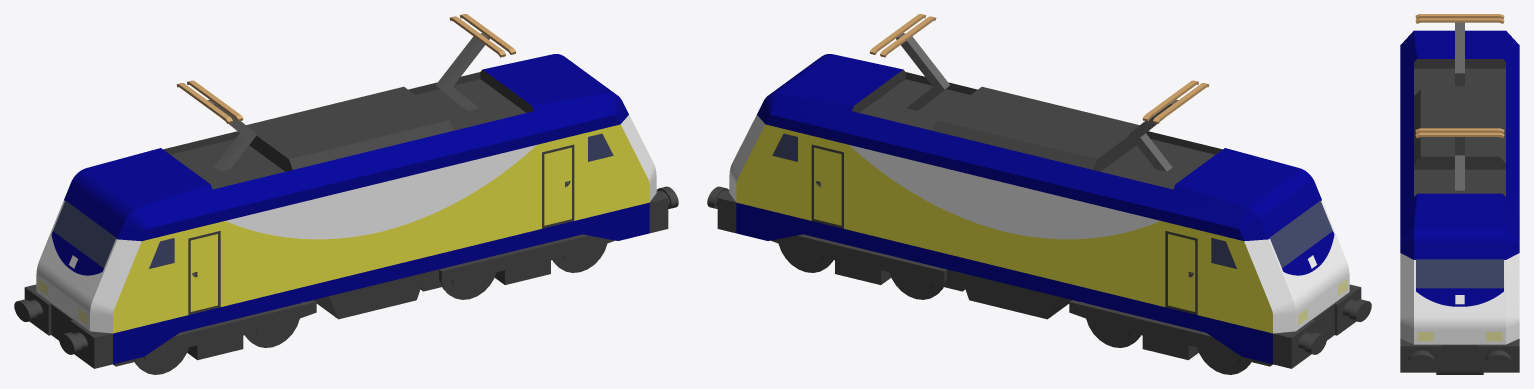
File: Train.obj
3 views of the same model, side by side, from view 1: azimuth 30°, elevation 25°; view 2: azimuth 150°, elevation 25°; view 3: azimuth 270°, elevation 25° (orthographic). The views are drawn at different scales.
Visible parts, largest first — view 1: Component_2_ID460, Component_2_ID538, Component_2_ID390, Component_2_ID302, Component_2_ID478, Component_2_ID326, Component_2_ID520, Component_2_ID372, Component_2_ID366, Component_2_ID514, Component_2_ID466, Component_1_ID146 (+21 smaller); view 2: Component_2_ID302, Component_2_ID390, Component_2_ID538, Component_2_ID460, Component_2_ID326, Component_2_ID478, Component_2_ID372, Component_2_ID520, Component_2_ID514, Component_2_ID366, Component_2_ID310, Component_1_ID22 (+21 smaller); view 3: Component_2_ID302, Component_2_ID460, Component_2_ID326, Component_2_ID478, Component_2_ID310, Component_2_ID466, Component_2_ID274, Component_2_ID436, Component_2_ID346, Component_2_ID496, Component_2_ID384, Component_2_ID532 (+10 smaller).
Boxes of the visible parts, left/top/right/bottom form: Component_2_ID460: left=91, top=54, right=589, bottom=241; Component_2_ID538: left=113, top=221, right=381, bottom=333; Component_2_ID390: left=381, top=124, right=649, bottom=267; Component_2_ID302: left=64, top=73, right=628, bottom=218; Component_2_ID478: left=197, top=69, right=507, bottom=189; Component_2_ID326: left=163, top=88, right=533, bottom=174; Component_2_ID520: left=226, top=183, right=381, bottom=239; Component_2_ID372: left=381, top=145, right=536, bottom=231; Component_2_ID366: left=381, top=202, right=649, bottom=283; Component_2_ID514: left=113, top=268, right=381, bottom=364; Component_2_ID466: left=63, top=238, right=141, bottom=333; Component_1_ID146: left=223, top=234, right=614, bottom=338; Component_2_ID302: left=796, top=54, right=1294, bottom=241; Component_2_ID390: left=1004, top=221, right=1272, bottom=333; Component_2_ID538: left=736, top=124, right=1004, bottom=267; Component_2_ID460: left=757, top=73, right=1321, bottom=218; Component_2_ID326: left=878, top=69, right=1188, bottom=189; Component_2_ID478: left=852, top=88, right=1222, bottom=174; Component_2_ID372: left=1004, top=183, right=1159, bottom=239; Component_2_ID520: left=849, top=145, right=1004, bottom=231; Component_2_ID514: left=736, top=202, right=1004, bottom=283; Component_2_ID366: left=1004, top=268, right=1272, bottom=364; Component_2_ID310: left=1244, top=238, right=1322, bottom=333; Component_1_ID22: left=771, top=234, right=1162, bottom=338; Component_2_ID302: left=1400, top=30, right=1519, bottom=259; Component_2_ID460: left=1400, top=30, right=1519, bottom=259; Component_2_ID326: left=1414, top=59, right=1505, bottom=196; Component_2_ID478: left=1414, top=59, right=1505, bottom=196; Component_2_ID310: left=1400, top=253, right=1459, bottom=344; Component_2_ID466: left=1460, top=253, right=1519, bottom=344; Component_2_ID274: left=1400, top=338, right=1459, bottom=372; Component_2_ID436: left=1460, top=338, right=1519, bottom=372; Component_2_ID346: left=1416, top=259, right=1459, bottom=288; Component_2_ID496: left=1460, top=259, right=1503, bottom=288; Component_2_ID384: left=1416, top=288, right=1459, bottom=306; Component_2_ID532: left=1460, top=288, right=1503, bottom=306.
Size of the model in its own units: 8.58 by 3.24 by 1.71.
